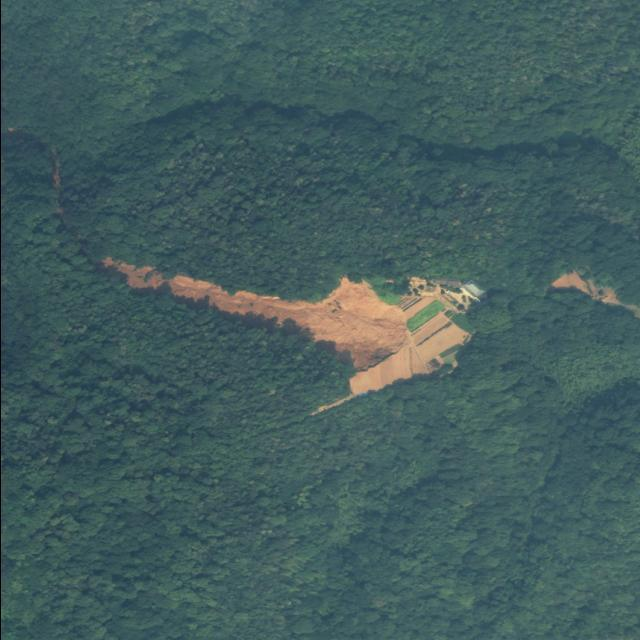landslide: (102, 260, 425, 395)
